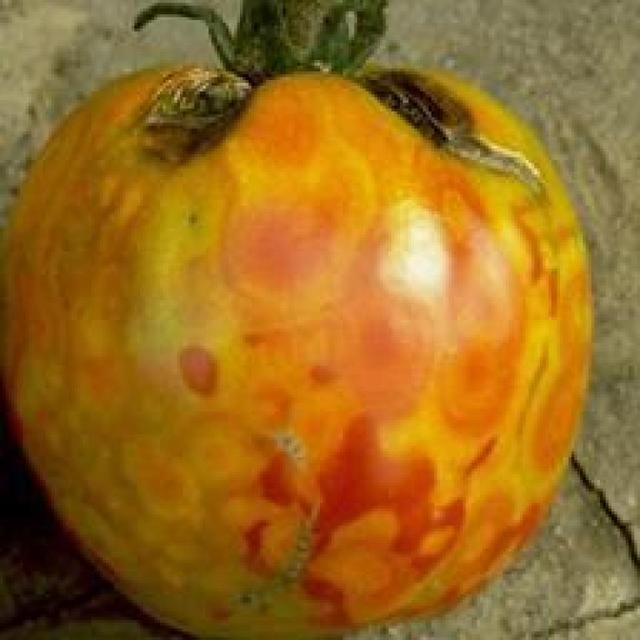Spotted wilt Virus Fruit: (4, 43, 397, 425)
